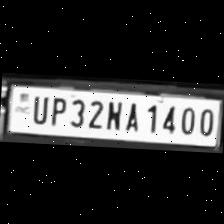0: (194, 103, 216, 135), (176, 102, 196, 134)
1: (140, 99, 158, 133)
2: (84, 96, 104, 128)
3: (66, 93, 86, 127)
4: (156, 100, 178, 132)
A: (122, 97, 142, 131)
N: (102, 96, 124, 130)
P: (46, 92, 68, 124)
U: (27, 91, 49, 123)
